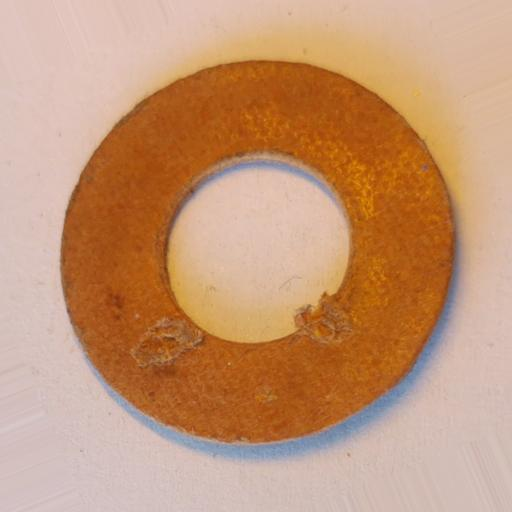defect: (134, 317, 206, 370), (292, 290, 359, 345)
